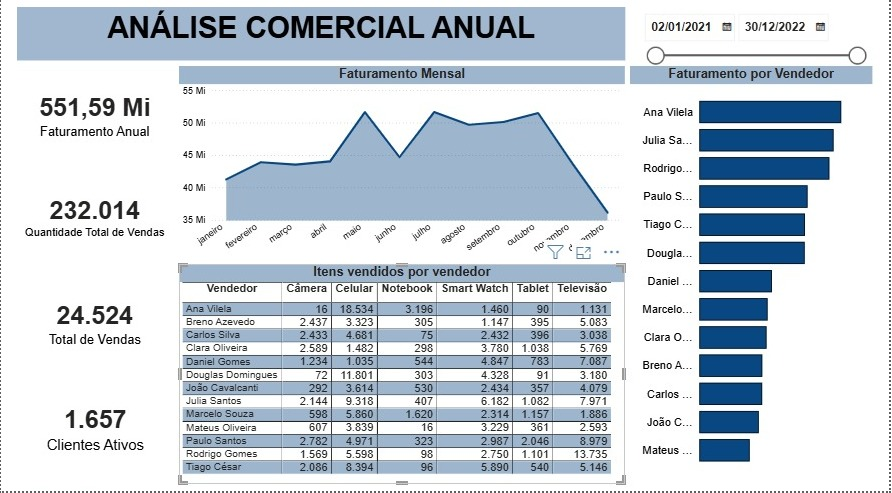

Layout of this report page (visuals, bound fields, positions):
{"tool":"powerbi","page":{"name":"Página 1","canvas":[1280,720],"ordinal":0},"visuals":[{"type":"areaChart","title":"Faturamento Mensal","fields":{"Category":["Vendas.Data.Variation.Hierarquia de datas.Mês"],"Y":["Sum(Vendas.Valor Total)"]},"box":[256.5,107.7,642,290.6],"z":0},{"type":"clusteredBarChart","title":"Faturamento por Vendedor","fields":{"Category":["Vendedores.Vendedor"],"Y":["Sum(Vendas.Valor Total)"]},"box":[905.7,107.7,348.7,591],"z":1000},{"type":"pivotTable","title":"Itens vendidos por vendedor","fields":{"Rows":["Vendedores.Vendedor"],"Columns":["Vendas.Categoria Produto"],"Values":["Sum(Vendas.Quantidade)"]},"box":[256.5,406.8,642,292],"z":2000},{"type":"card","fields":{"Values":["Sum(Vendas.Faturamento)"]},"box":[21.3,107.7,226.8,136.1],"z":3000},{"type":"card","fields":{"Values":["Sum(Vendas.Quantidade)"]},"box":[21.3,253.7,226.8,138.9],"z":4000},{"type":"card","fields":{"Values":["Vendas.Qtd vendas"]},"box":[21.3,403.9,226.8,141.7],"z":5000},{"type":"card","fields":{"Values":["Vendas.Clientes Ativos"]},"box":[21.3,555.6,228.2,143.1],"z":6000},{"type":"textbox","box":[22.7,22.7,875.9,76.5],"z":7000},{"type":"slicer","fields":{"Values":["Vendas.Data"]},"box":[914.2,22.7,340.2,85],"z":8000}]}

Visuals, with their boxes in screenshot pixels (x1, y1, x2, y2), scaled from the page's 1280x720 canvas onto the 892x493 screenshot:
"Faturamento Mensal" areaChart: (x1=179, y1=74, x2=626, y2=273)
"Faturamento por Vendedor" clusteredBarChart: (x1=631, y1=74, x2=874, y2=478)
"Itens vendidos por vendedor" pivotTable: (x1=179, y1=279, x2=626, y2=478)
card - Sum(Vendas.Faturamento): (x1=15, y1=74, x2=173, y2=167)
card - Sum(Vendas.Quantidade): (x1=15, y1=174, x2=173, y2=269)
card - Vendas.Qtd vendas: (x1=15, y1=277, x2=173, y2=374)
card - Vendas.Clientes Ativos: (x1=15, y1=380, x2=174, y2=478)
textbox: (x1=16, y1=16, x2=626, y2=68)
slicer - Vendas.Data: (x1=637, y1=16, x2=874, y2=74)
